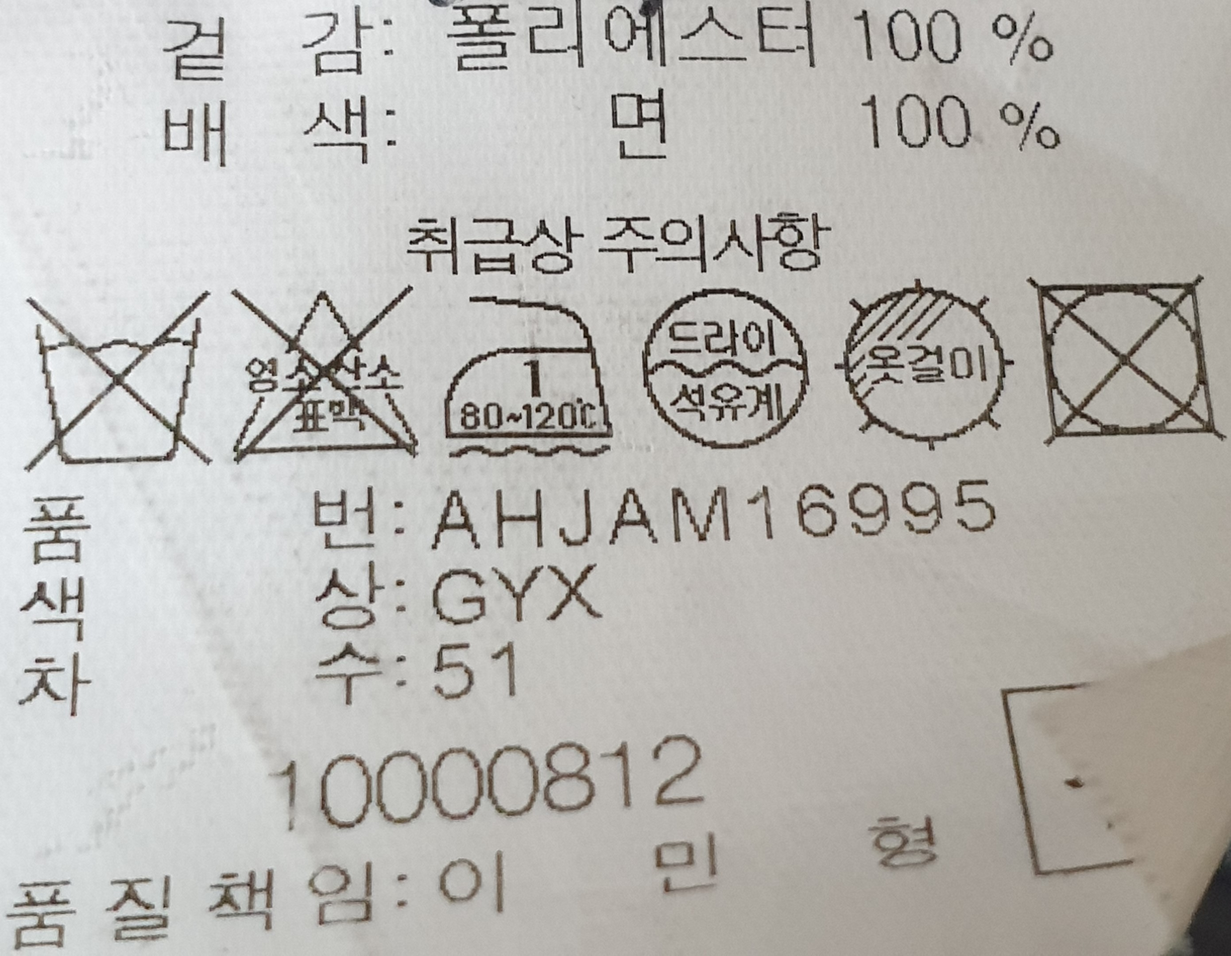KR_dry_clean_petroleum: (637, 275, 815, 450)
KR_hang_dry_in_shade: (833, 271, 1025, 451)
KR_iron_low_temp_with_cloth: (432, 279, 620, 465)
KR_no_bleach: (220, 278, 425, 464)
KR_no_tumble_dry: (1016, 262, 1222, 450)
KR_no_wash: (23, 288, 212, 479)
